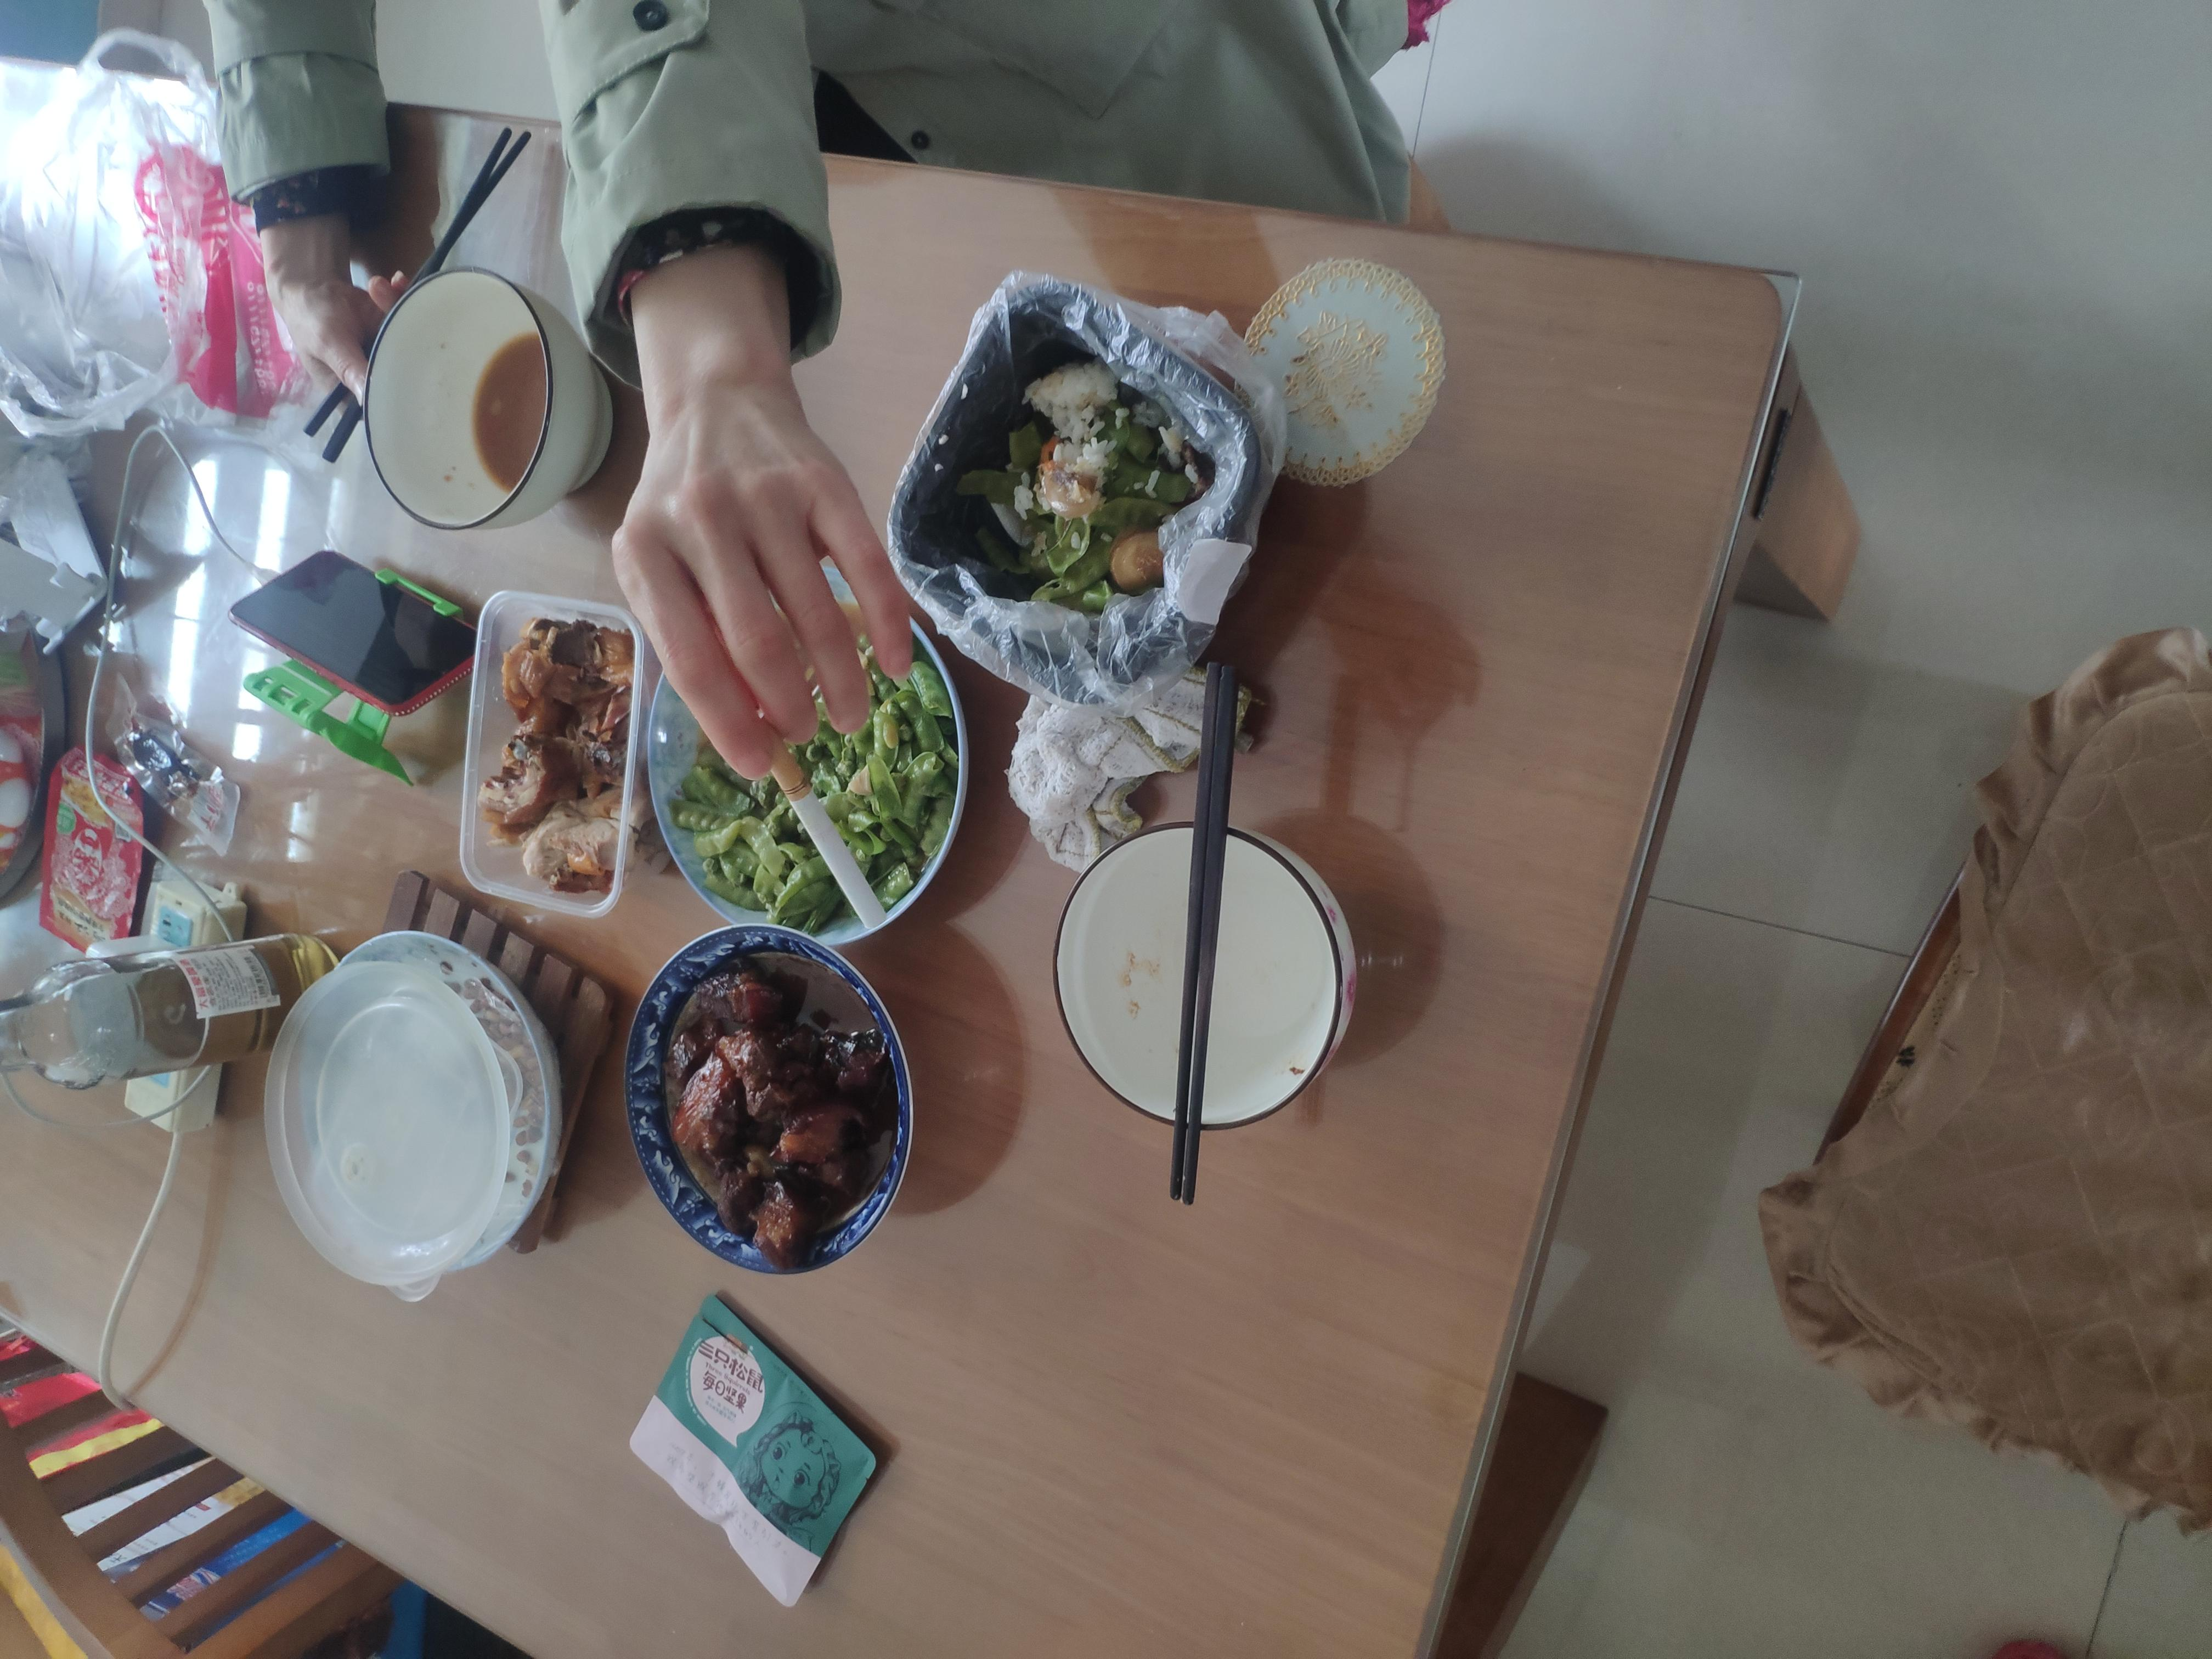smoke: (977, 566, 1263, 669)
